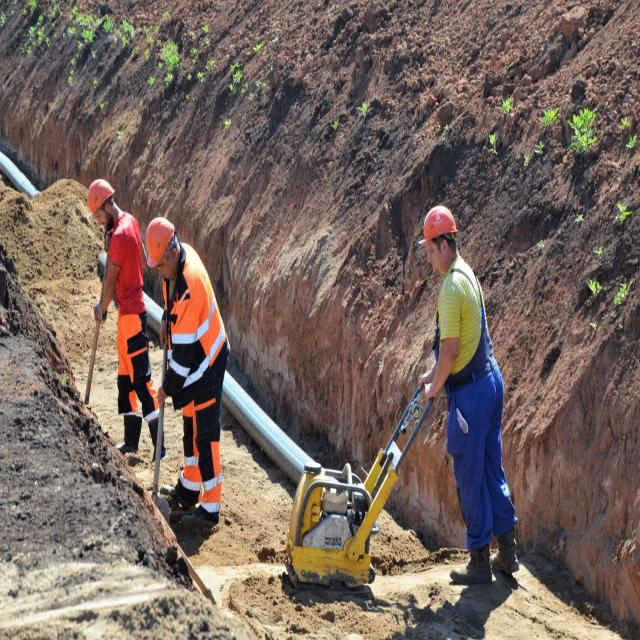Helmet: (147, 217, 178, 271), (420, 206, 460, 247), (88, 180, 117, 220)
Jacket: (166, 254, 212, 403)
NoJacket: (443, 258, 481, 432), (109, 212, 137, 328)
